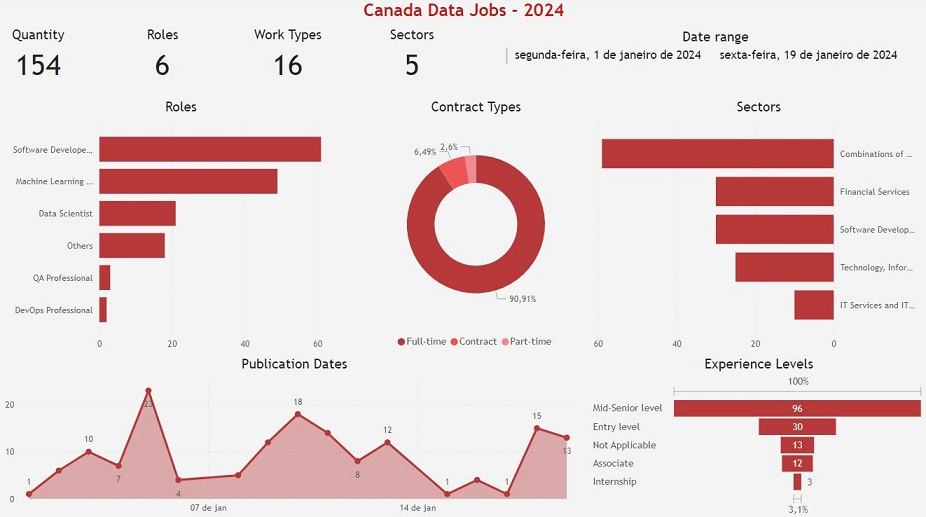

This screenshot's page, from the dashboard's own definition file:
{"tool":"powerbi","page":{"name":"Dashboard","canvas":[1280,720],"ordinal":0},"visuals":[{"type":"areaChart","title":"Publication Dates","fields":{"Y":["CountNonNull(datac2.id)"],"Category":["datac2.publishedAt.Variation.Hierarquia de datas.Ano"]},"box":[0,494.5,812.9,225.5],"z":0},{"type":"clusteredBarChart","title":"Sectors","fields":{"Y":["CountNonNull(datac2.id)"],"Category":["datac2.sector"]},"box":[812.9,141.1,466.7,353.4],"z":1000},{"type":"funnel","title":"Experience Levels","fields":{"Category":["datac2.experienceLevel"],"Y":["CountNonNull(datac2.id)"]},"box":[812.9,494.5,466.7,225.5],"z":2000},{"type":"donutChart","title":"Contract Types","fields":{"Y":["CountNonNull(datac2.id)"],"Category":["datac2.contractType"]},"box":[500.5,141.1,312.4,353.4],"z":3000},{"type":"clusteredBarChart","title":"Roles","fields":{"Category":["datac2.title"],"Y":["CountNonNull(datac2.id)"]},"box":[0,141.1,500.5,353.4],"z":4000},{"type":"textbox","box":[0,0,1279.6,44.6],"z":5000},{"type":"card","title":"Professionals","fields":{"Values":["CountNonNull(datac2.id)"]},"box":[0,42.2,172.5,98.9],"z":6000},{"type":"card","title":"Roles","fields":{"Values":["Count(datac2.title)"]},"box":[172.5,42.2,154.4,98.9],"z":7000},{"type":"card","title":"Work Types","fields":{"Values":["Count(datac2.workType)"]},"box":[326.8,44.6,152,96.5],"z":8000},{"type":"card","title":"Sectors","fields":{"Values":["Count(datac2.sector)"]},"box":[478.8,42.2,161.6,98.9],"z":9000},{"type":"card","title":"Earliest Date","fields":{"Values":["Min(datac2.publishedAt)"]},"box":[640.4,42.2,311.2,98.9],"z":10000},{"type":"card","title":"Most Recent Date","fields":{"Values":["Max(datac2.publishedAt)"]},"box":[951.6,44.6,328,96.5],"z":11000}]}

Visuals, with their boxes in screenshot pixels (x1, y1, x2, y2), scaled from the page's 1280x720 canvas onto the 926x517 screenshot:
"Publication Dates" areaChart: [0,355,588,516]
"Sectors" clusteredBarChart: [588,101,925,355]
"Experience Levels" funnel: [588,355,925,516]
"Contract Types" donutChart: [362,101,588,355]
"Roles" clusteredBarChart: [0,101,362,355]
textbox: [0,0,925,32]
"Professionals" card: [0,30,125,101]
"Roles" card: [125,30,236,101]
"Work Types" card: [236,32,346,101]
"Sectors" card: [346,30,463,101]
"Earliest Date" card: [463,30,688,101]
"Most Recent Date" card: [688,32,925,101]
